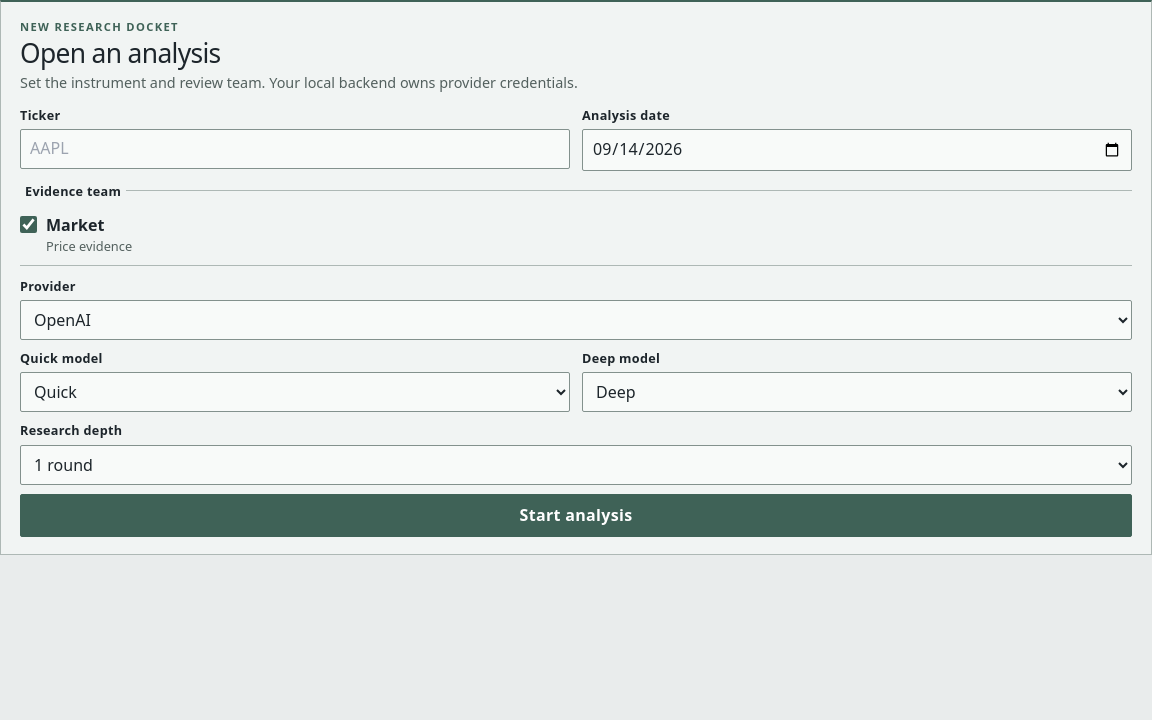
Scenario: resets models to the newly selected provider defaults
Step 1. Select "Alternate" in the dropdown labelled "Provider" → (576, 320), box [20, 300, 1132, 340]
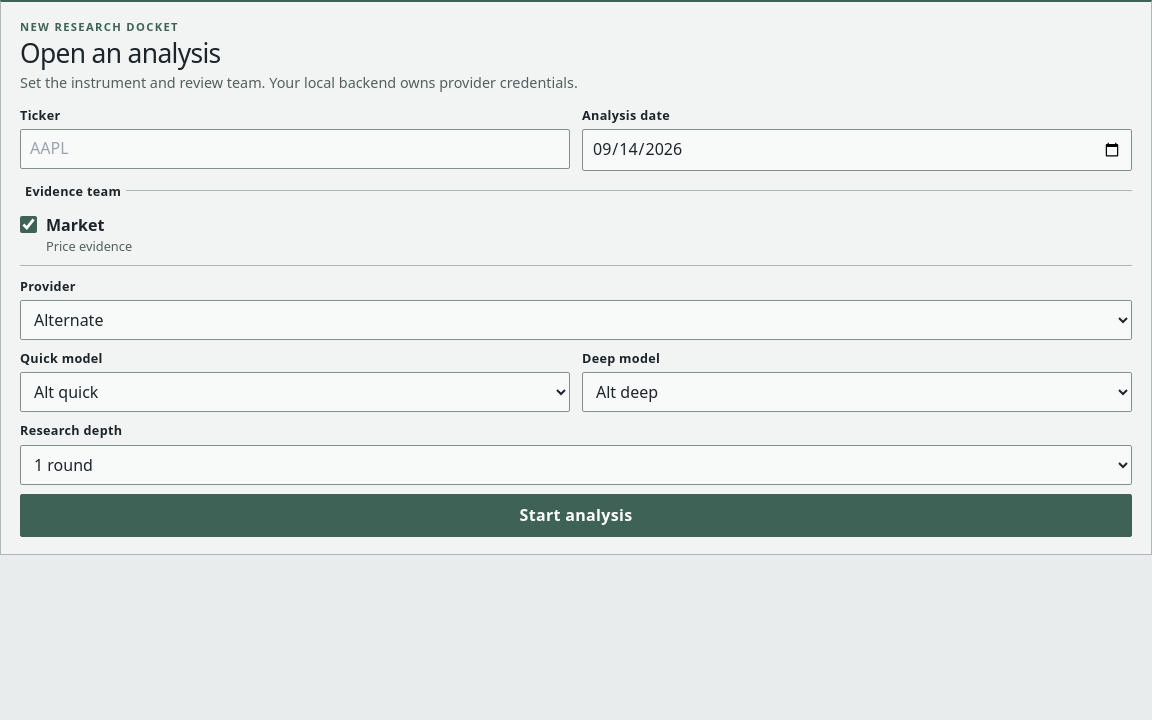
Result: the dropdown labelled "Quick model" shows "Alt quick" at [20, 372, 570, 412]
Result: the dropdown labelled "Deep model" shows "Alt deep" at [582, 372, 1132, 412]
